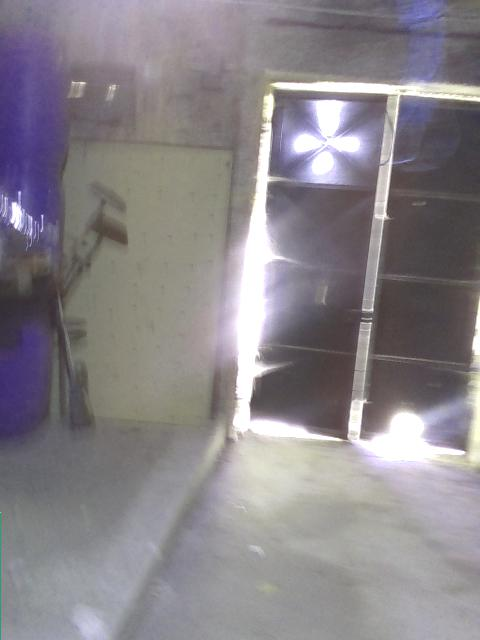closed_door: (227, 80, 479, 451)
